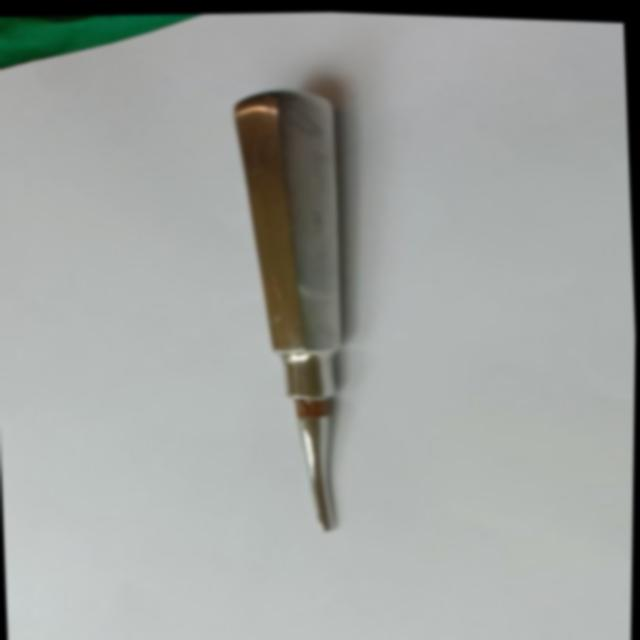Coupland1: (215, 76, 366, 541)
